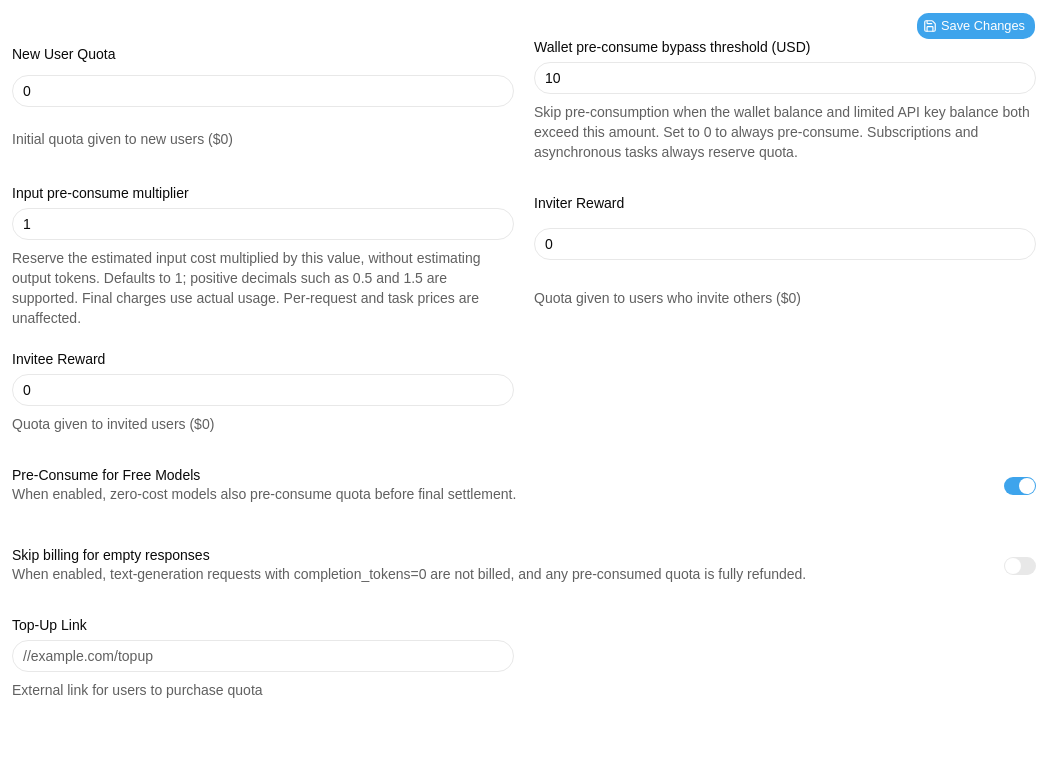
Test: invalid multiplier "0" shows a field error and prevents saving
Replace the text in the number field labelled "Input pre-consume multiplier" with "0": (263, 224) [12,208,514,240]
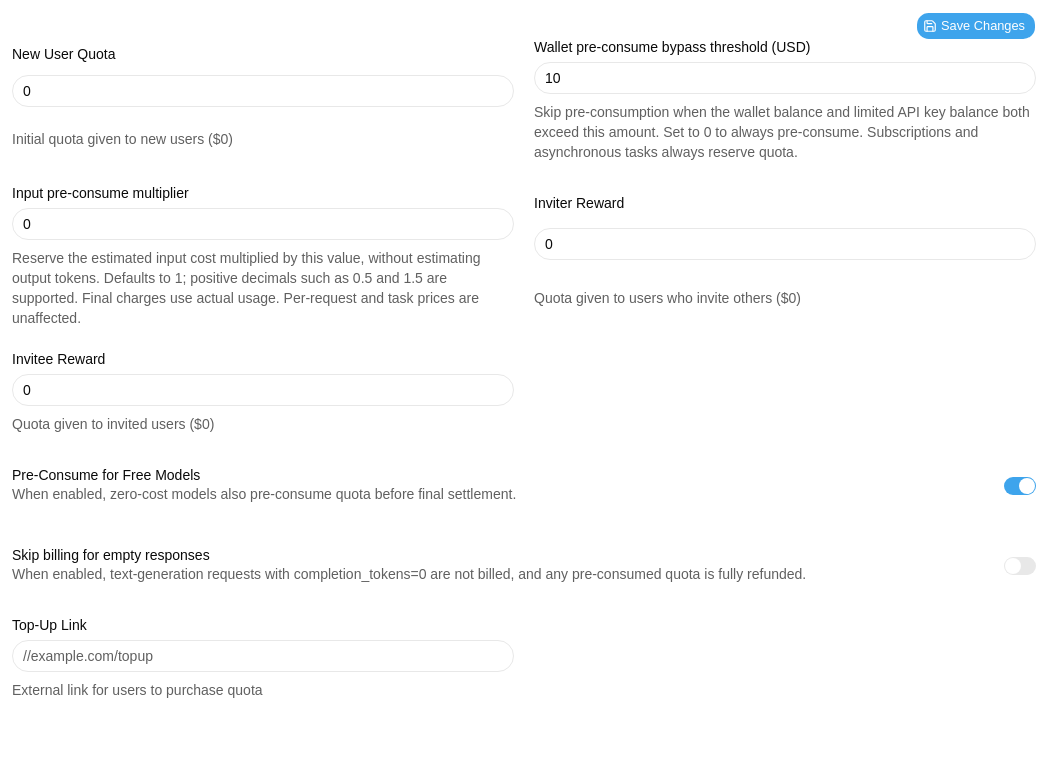
Click the button "Save Changes": (976, 26) [916,12,1036,40]
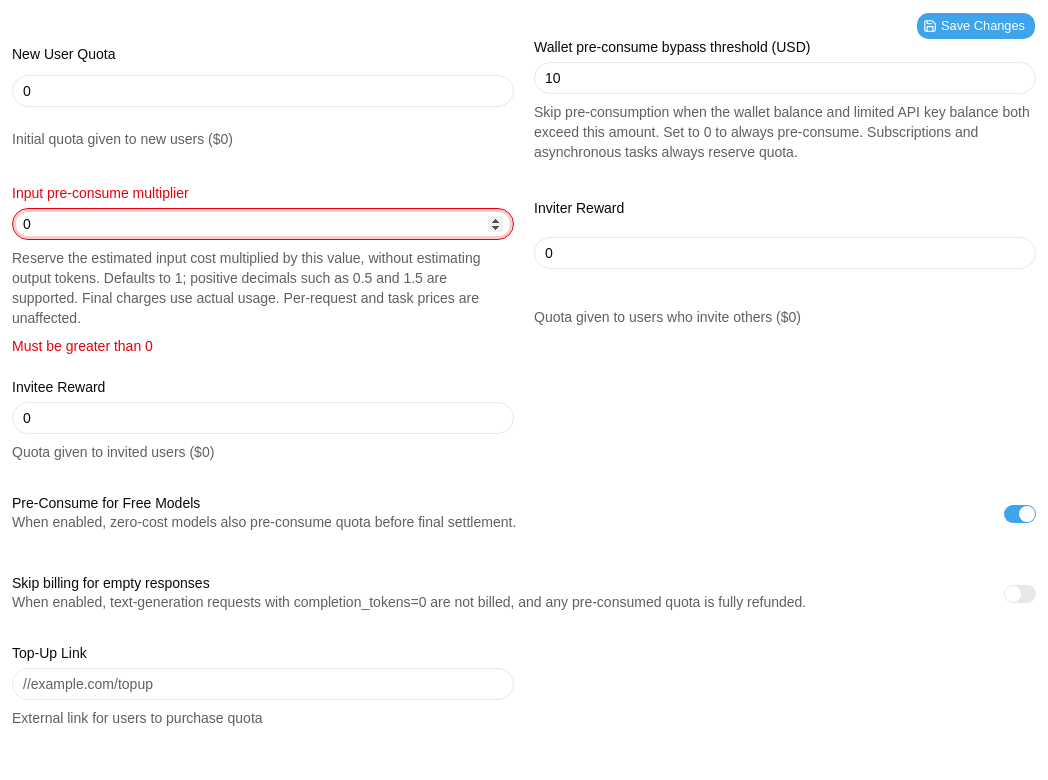
Expected: the text "Must be greater than 0" is shown, [12,338,153,354]
